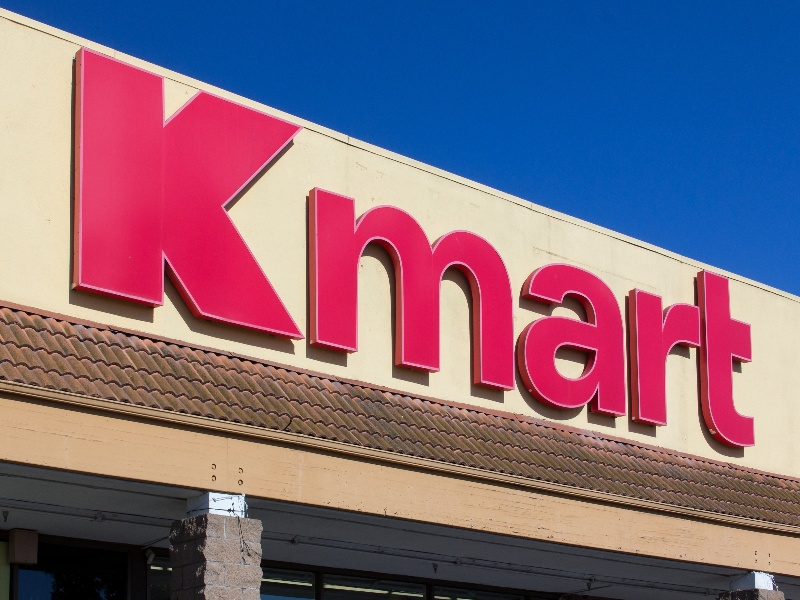letters: (73, 44, 297, 350), (308, 188, 514, 397), (518, 261, 624, 428), (694, 256, 765, 469), (631, 282, 707, 431)
